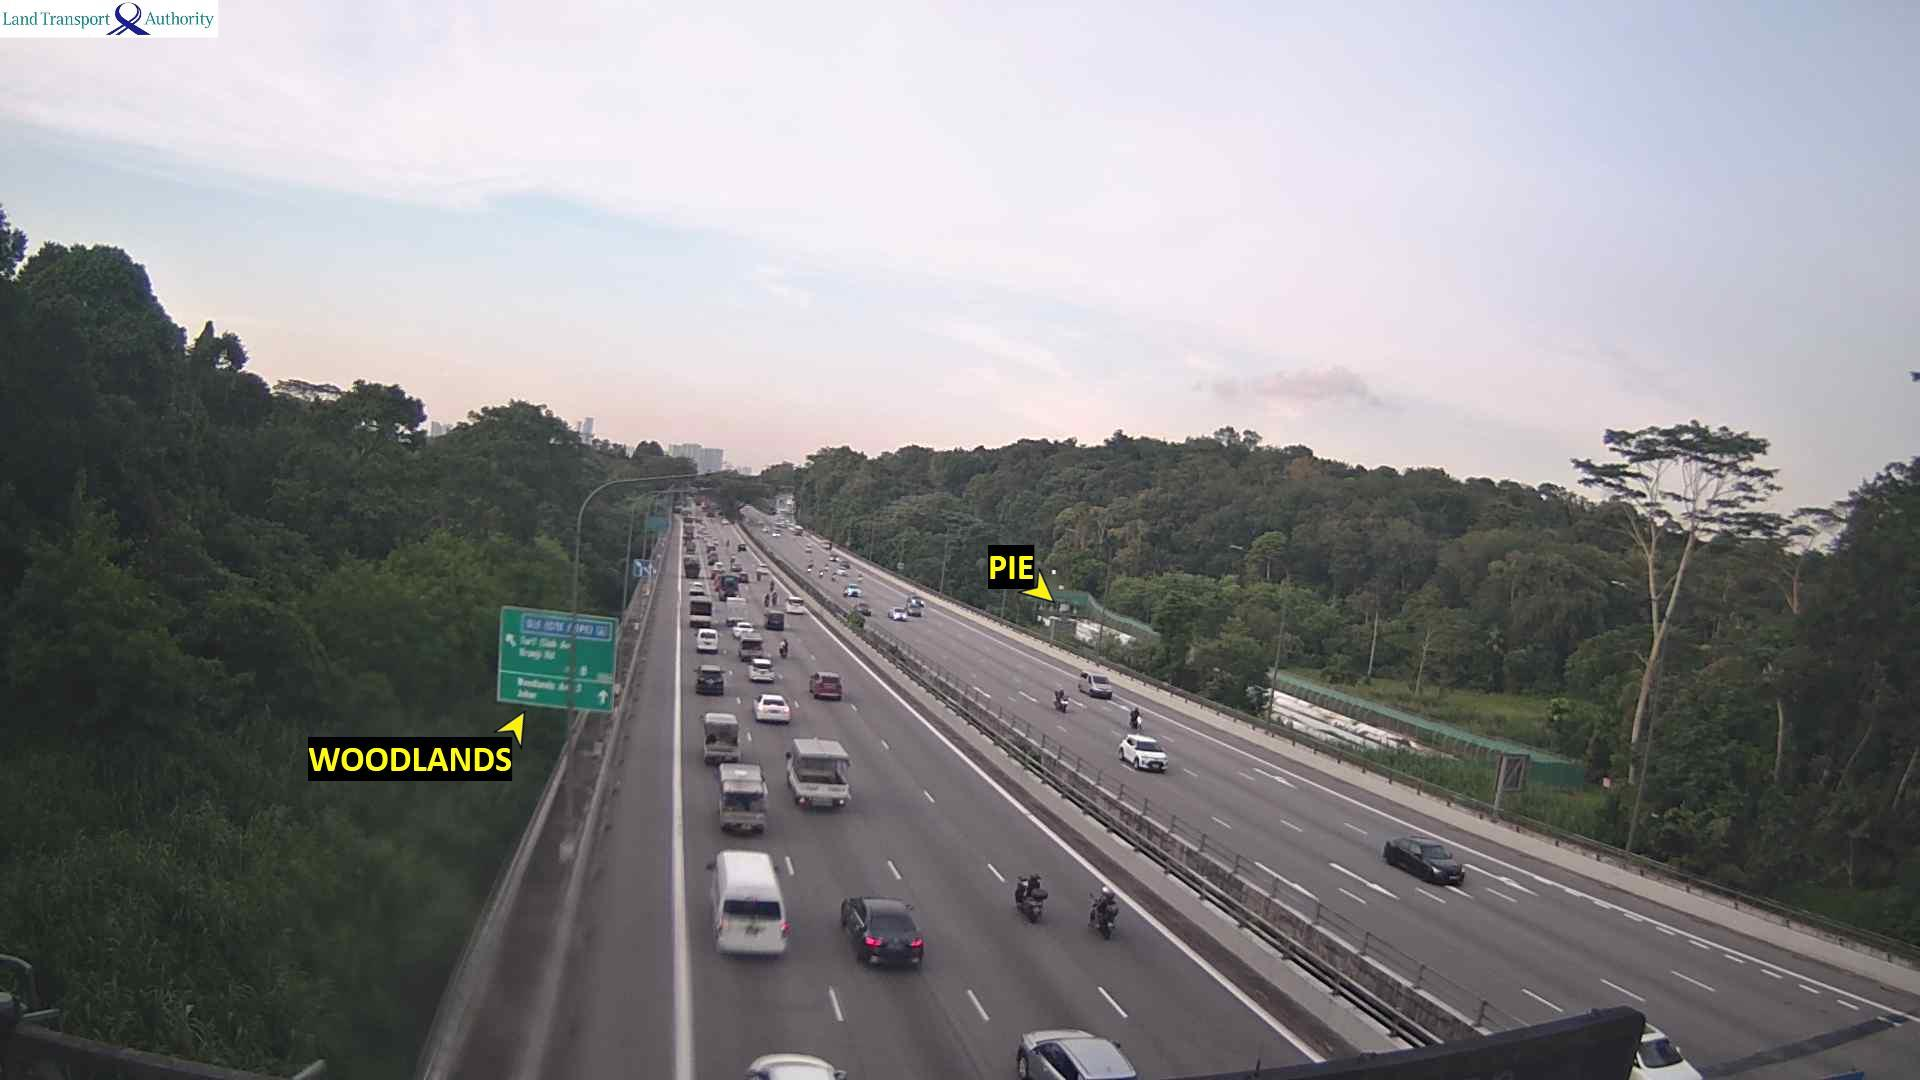incoming: (1411, 841, 1466, 891), (1131, 737, 1171, 773), (1085, 671, 1117, 699), (1056, 695, 1073, 713), (889, 605, 907, 621), (848, 584, 864, 597), (907, 605, 924, 617), (1133, 715, 1145, 731), (913, 596, 924, 607)
